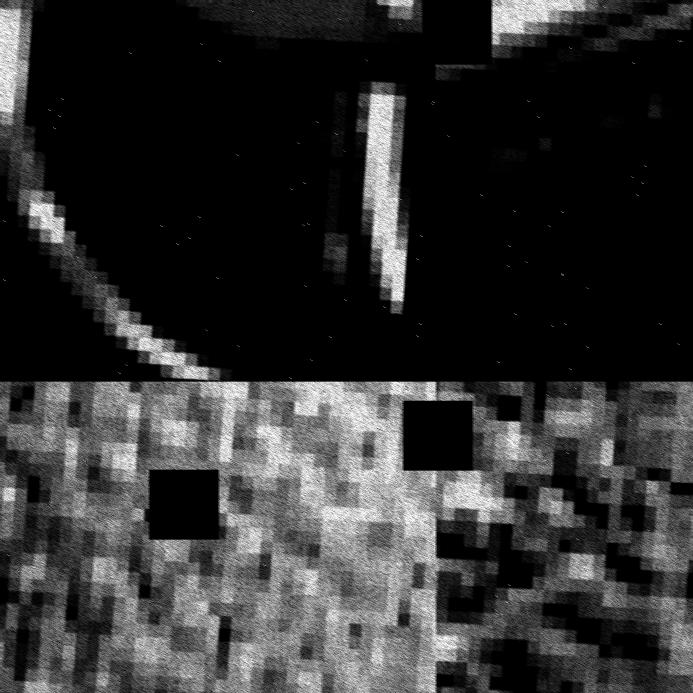Airbag: (0, 0, 436, 381), (0, 381, 436, 693), (436, 0, 693, 381), (436, 381, 693, 693)
